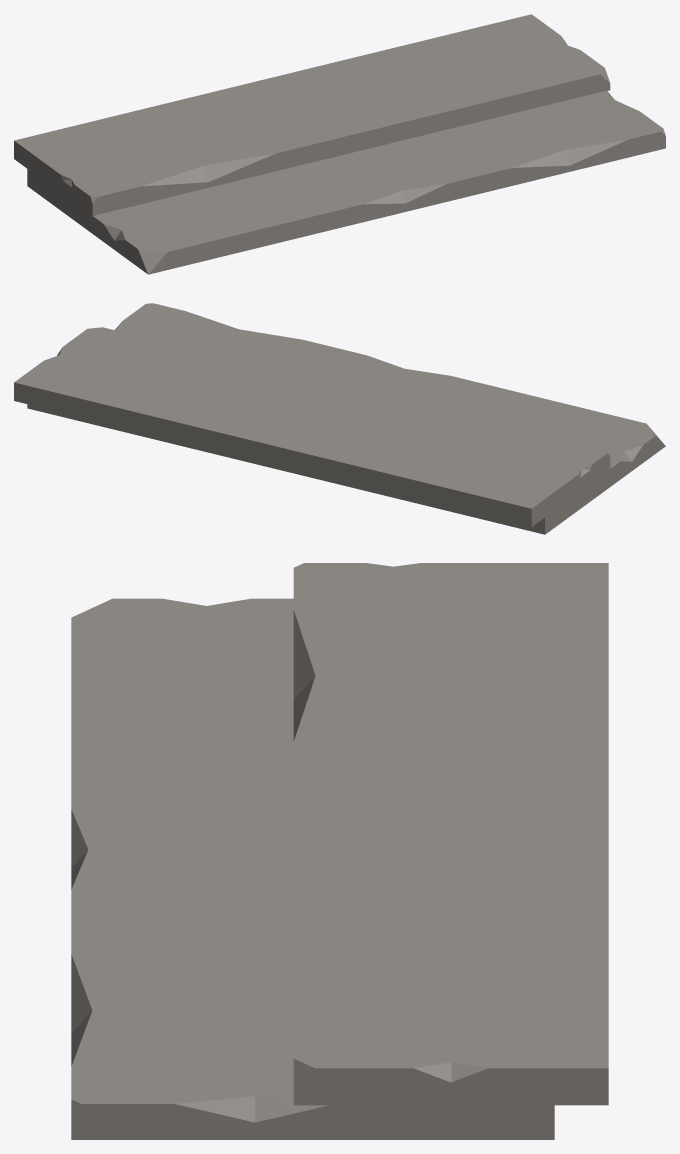
The model's file is SM_Env_Stair_01.fbx.
3 views of the same model, one above another, from view 1: azimuth 30°, elevation 25°; view 2: azimuth 150°, elevation 25°; view 3: azimuth 270°, elevation 25° (orthographic). The views are drawn at different scales.
Parts seen in each view (by area): view 1: SM_Env_Stair_01; view 2: SM_Env_Stair_01; view 3: SM_Env_Stair_01.
Boxes of the visible parts, x1,y1,x2,y2 form: SM_Env_Stair_01: [14, 14, 665, 274]; SM_Env_Stair_01: [14, 303, 665, 534]; SM_Env_Stair_01: [71, 563, 608, 1139].
Size of the model in its own units: 151 by 10 by 67.86.
Materials: 1 (1 with a texture image).
